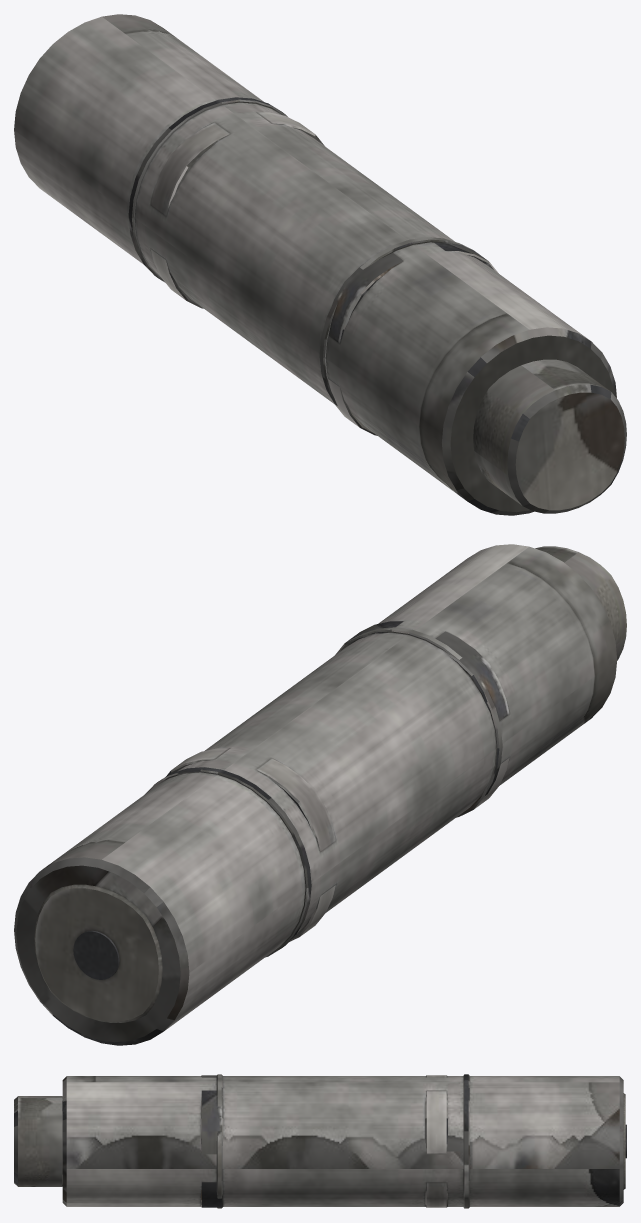
Rendered from suppressor.glb.
3 renders of one model, top to bottom at view 1: azimuth 30°, elevation 25°; view 2: azimuth 150°, elevation 25°; view 3: azimuth 270°, elevation 25°, orthographic. The views are drawn at different scales.
Parts seen in each view (by area): view 1: can, collar, band_b, band_a, can_seam.001, can_seam; view 2: can, end_cap, band_b, band_a, collar, can_seam.001, bore, can_seam; view 3: can, collar, band_b, band_a, can_seam.001, can_seam, end_cap.
Part boxes in pixels (<box>): can: <box>14,14,616,515</box>; collar: <box>473,359,626,513</box>; band_b: <box>150,112,324,308</box>; band_a: <box>328,242,498,435</box>; can_seam.001: <box>128,97,287,282</box>; can_seam: <box>319,237,461,405</box>; can: <box>14,544,617,1045</box>; end_cap: <box>34,884,162,1022</box>; band_b: <box>166,748,335,941</box>; band_a: <box>335,621,509,817</box>; collar: <box>535,546,626,660</box>; can_seam.001: <box>145,767,311,957</box>; bore: <box>73,930,119,979</box>; can_seam: <box>360,627,502,796</box>; can: <box>62,1076,623,1206</box>; collar: <box>14,1096,62,1186</box>; band_b: <box>425,1075,447,1207</box>; band_a: <box>201,1075,223,1207</box>; can_seam.001: <box>463,1074,469,1208</box>; can_seam: <box>216,1074,222,1208</box>; end_cap: <box>623,1093,625,1189</box>.
Bounding box in the file's own units: 0.0359 × 0.0359 × 0.1639.
Materials: 1 (1 with a texture image).
